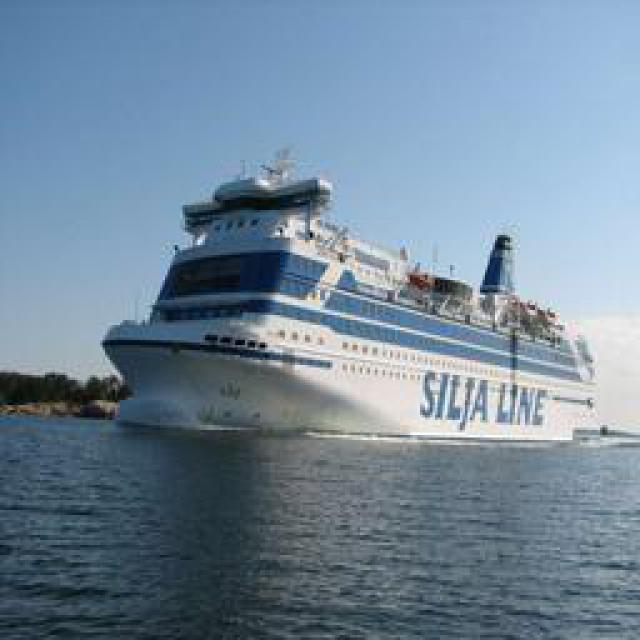Ship: (110, 163, 613, 441)
